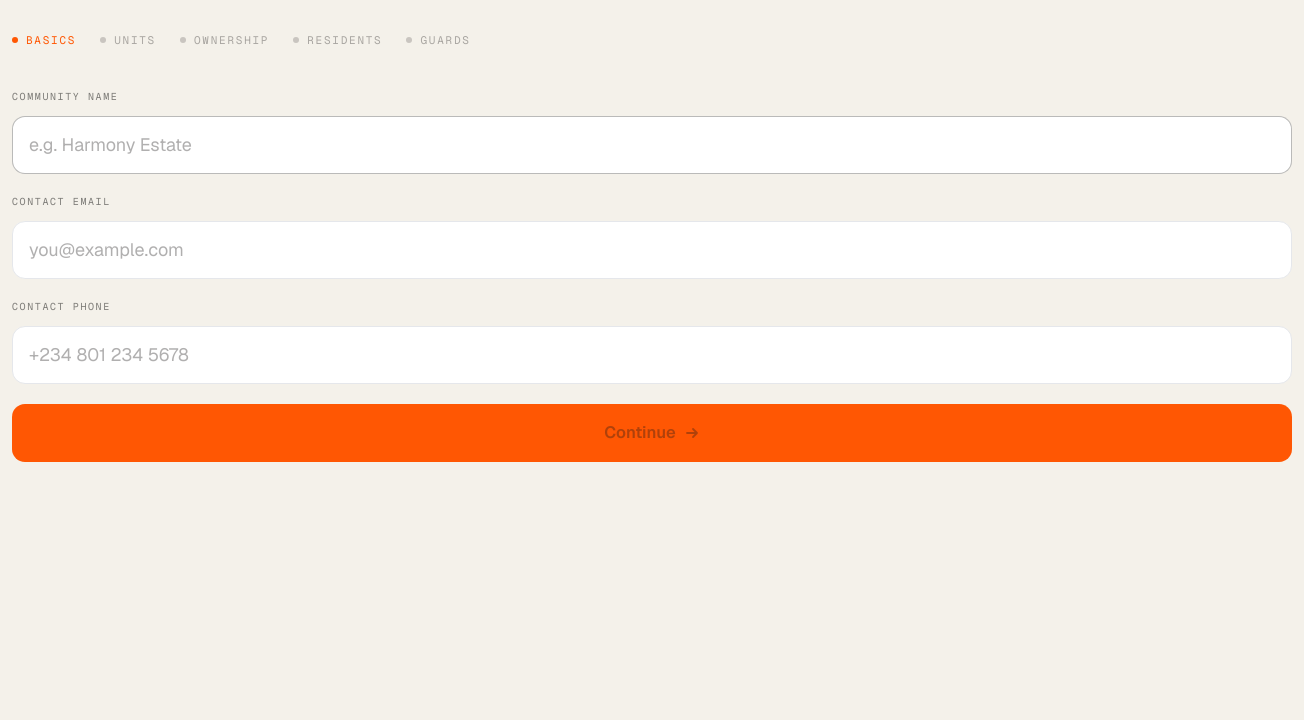
CommunityWizard › submits the exact POST body and advances to the Units step on success
Type "Harmony Estate" into the field labelled "Community name" at (652, 144), box x1=12 y1=116 x2=1292 y2=174
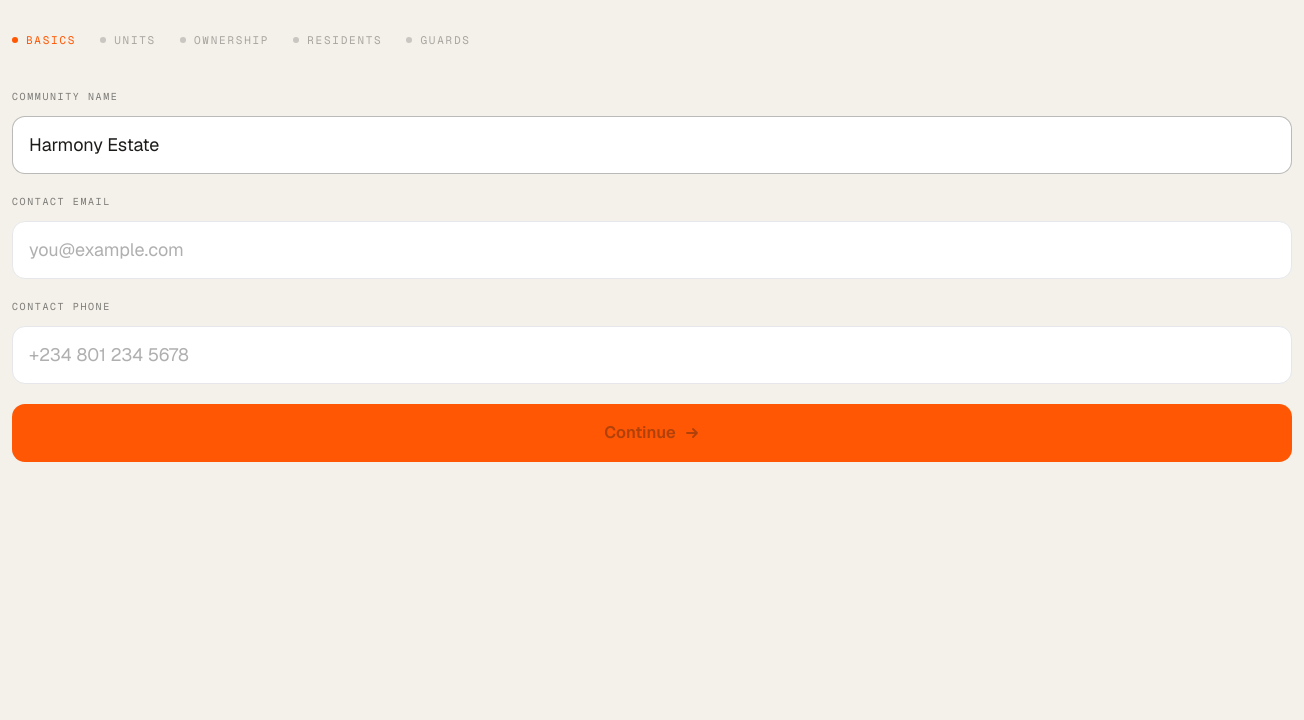
Type "admin@example.com" into the field labelled "Contact email" at (652, 250), box x1=12 y1=220 x2=1292 y2=278
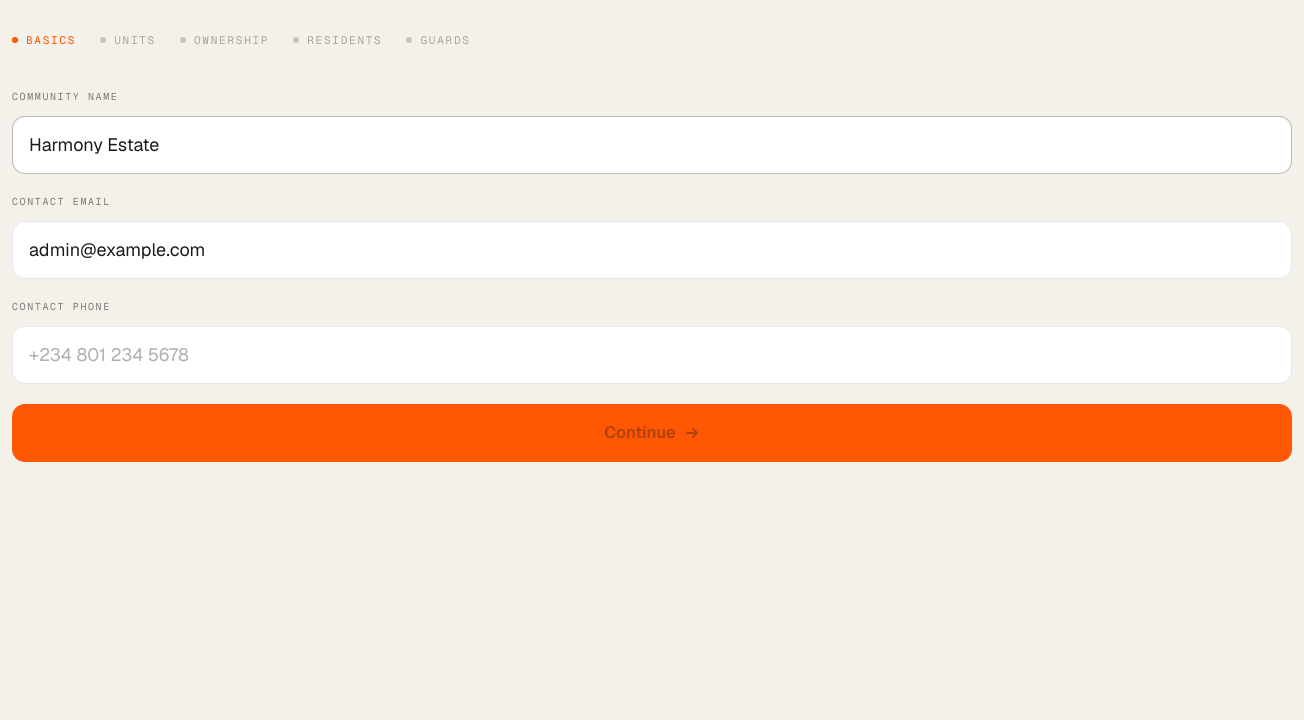
Type "+2348012345678" into the field labelled "Contact phone" at (652, 354), box x1=12 y1=326 x2=1292 y2=384
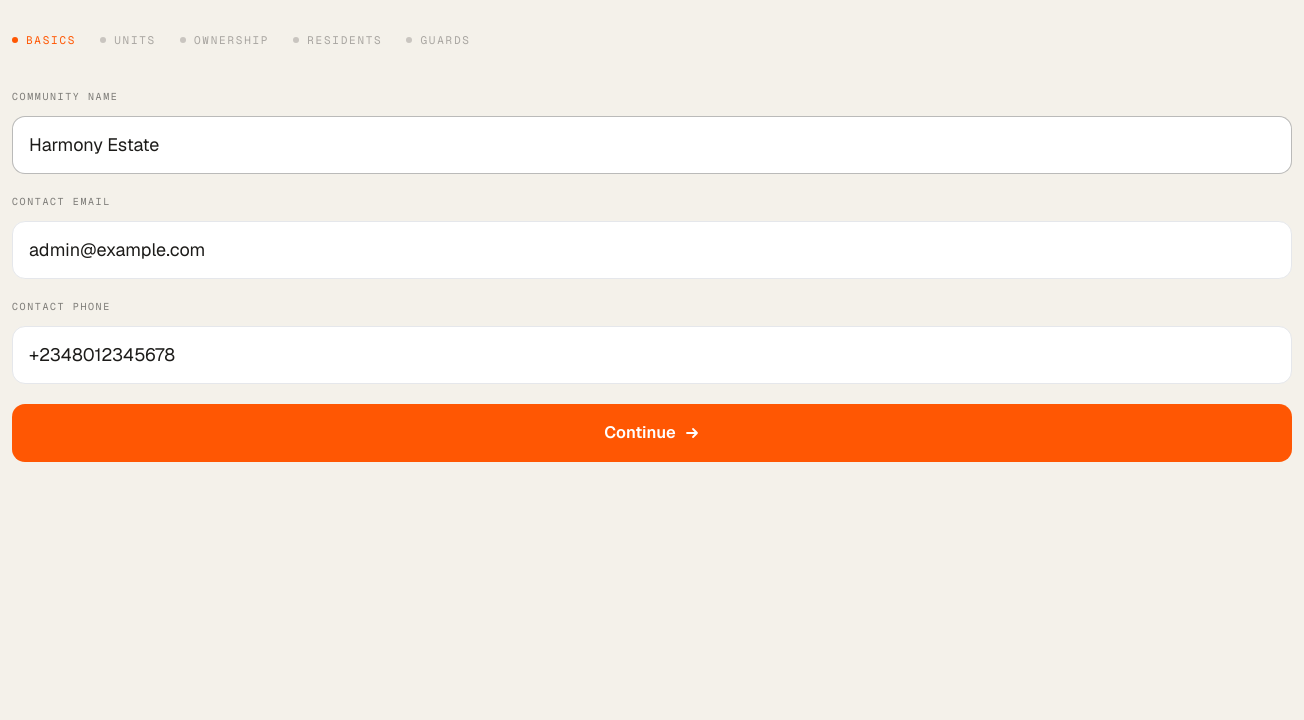
Now the button "Continue" is enabled
Click the button "Continue" at (652, 432), box x1=12 y1=404 x2=1292 y2=462
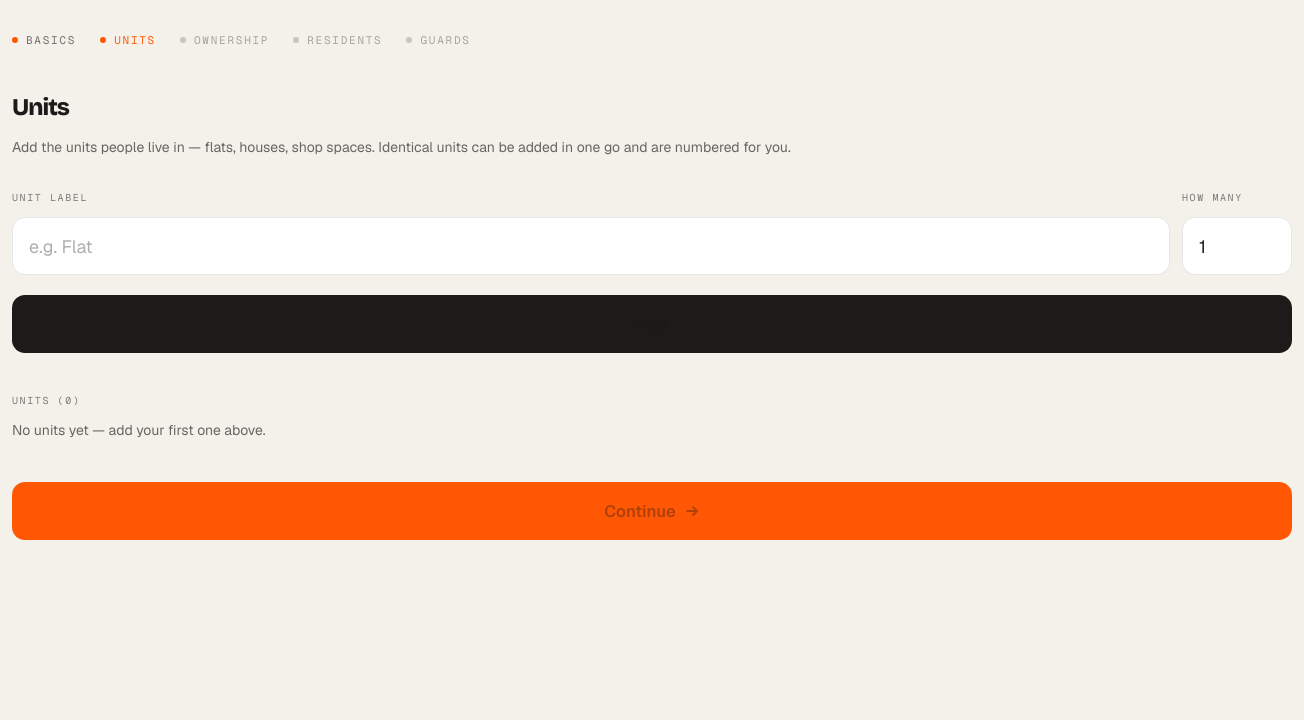
Now the heading "Units (0)" is shown, box x1=12 y1=394 x2=80 y2=407
Now the text "No units yet — add your first one above." is shown, box x1=12 y1=421 x2=266 y2=439
